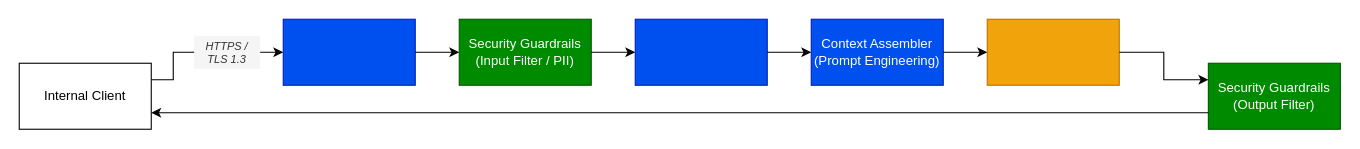
The diagram is 1360 pixels wide and 149 high, and some of its shapes have lost their labels. The shapes that lost their labels are listed below. From the top down, each one's centre as x and y in pixels, then its label:
the point at 348,51: Private API Gateway
the point at 700,51: Vector Retriever (Hybrid Search)
the point at 1052,51: Cognitive Engine (Mistral Large 3)
